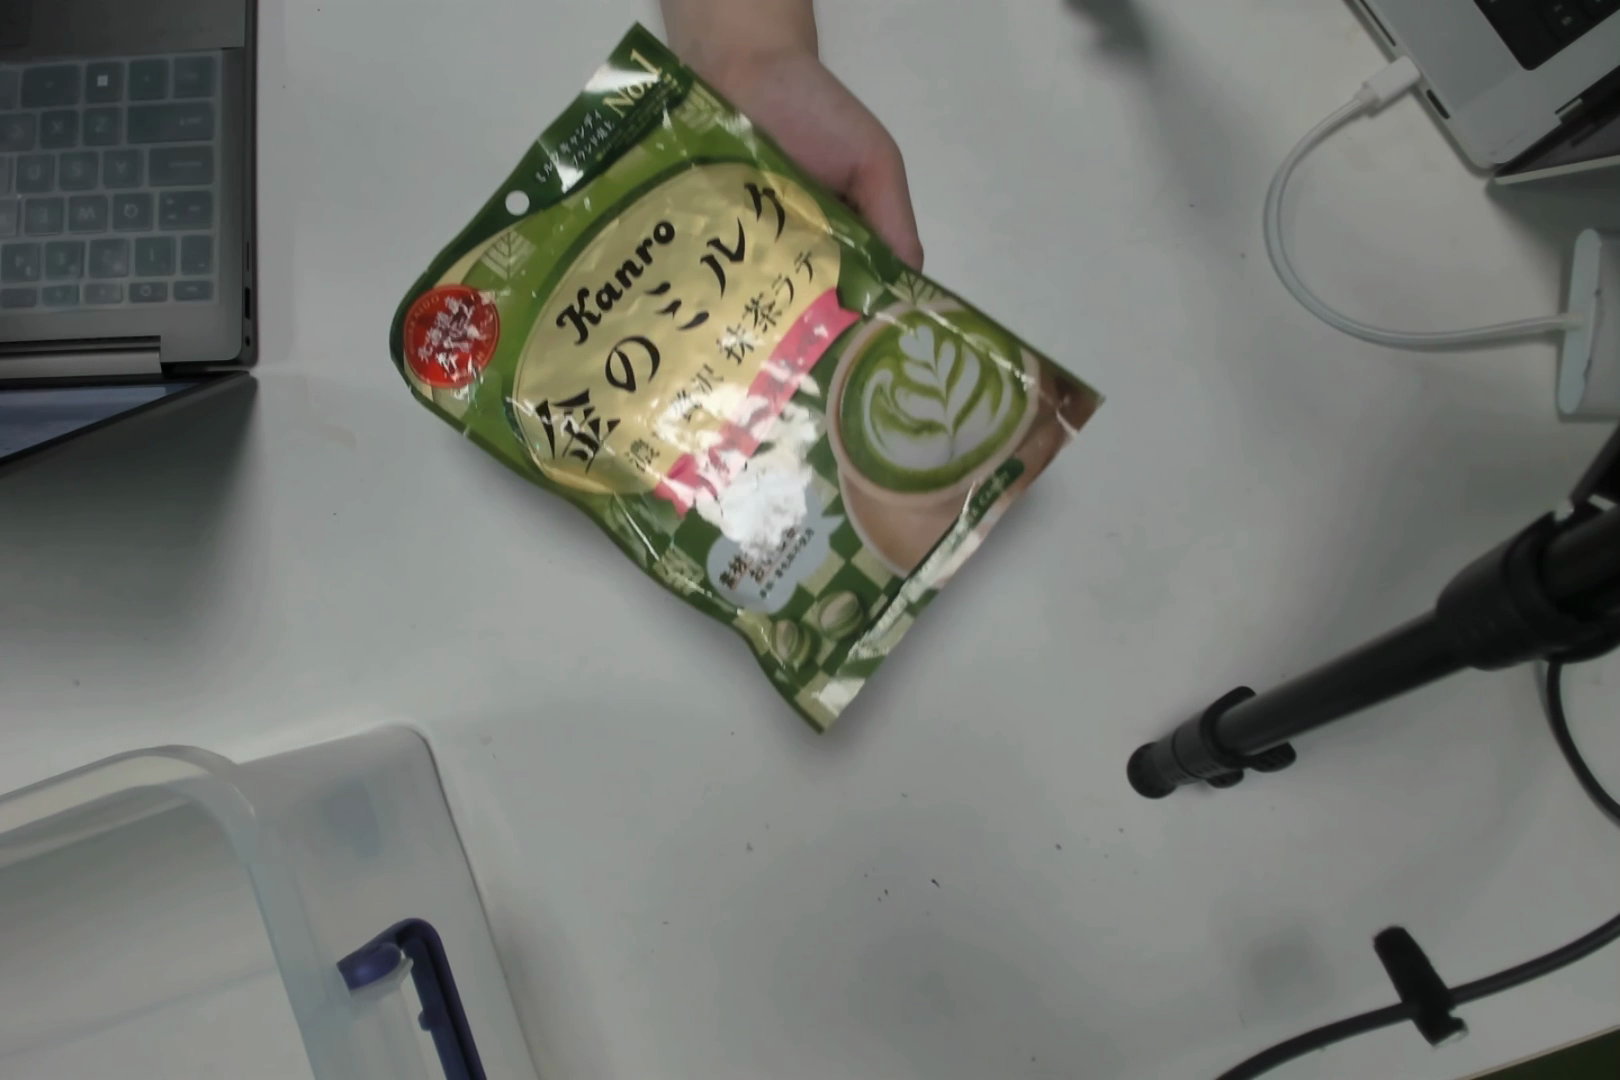SweetsChocolatesOthers_1-99g_NonHalal_NonHealthy: (518, 108, 1026, 677)
